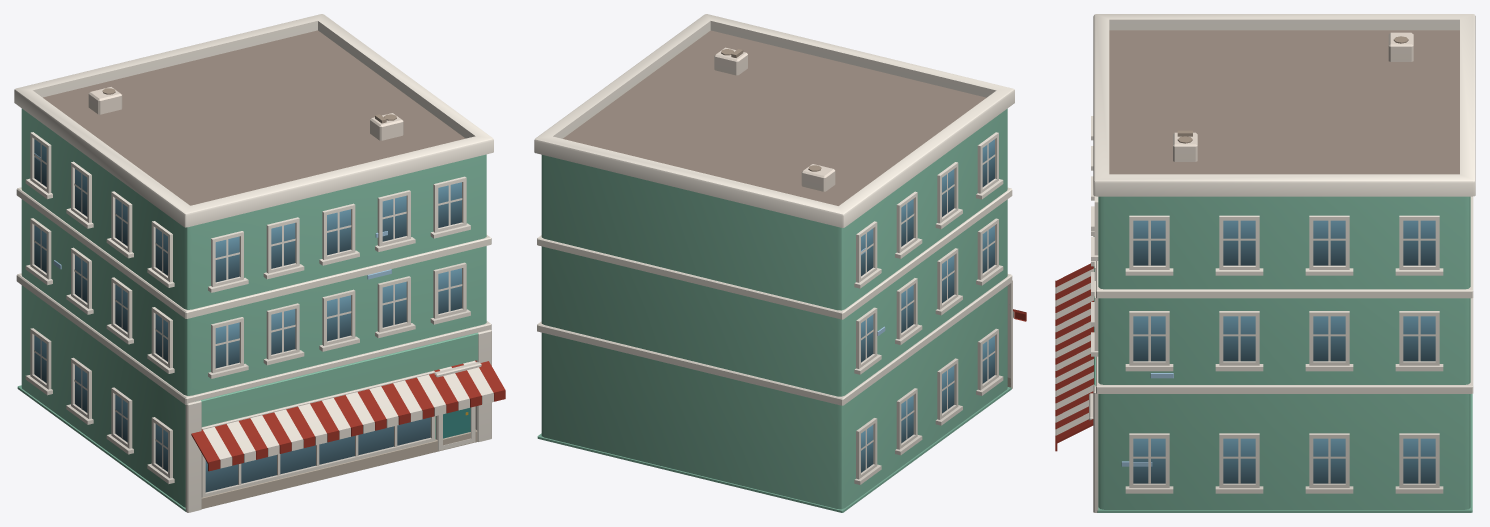
Rendered from vee_right3.glb.
3 renders of one model, left to right at view 1: azimuth 30°, elevation 25°; view 2: azimuth 150°, elevation 25°; view 3: azimuth 270°, elevation 25°, orthographic. The views are drawn at different scales.
Visible parts, largest first — view 1: vee_right3; view 2: vee_right3; view 3: vee_right3.
Boxes of the visible parts, x1,y1,x2,y2 form: vee_right3: (14, 14, 505, 512); vee_right3: (534, 14, 1026, 512); vee_right3: (1055, 14, 1475, 512).
Bounding box in the file's own units: 12.98 × 12.19 × 13.55.
1 material, 1 textured.
